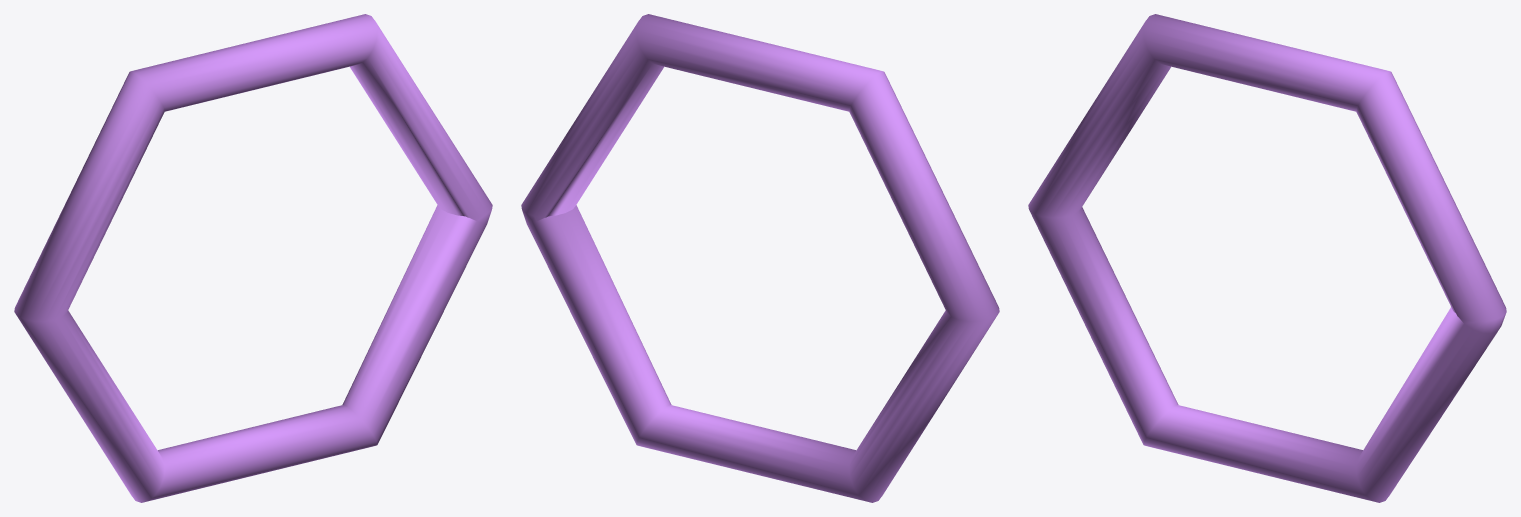
Rendered from hexagon-BB1gjEWf.glb.
3 views of the same model, side by side, from view 1: azimuth 30°, elevation 25°; view 2: azimuth 150°, elevation 25°; view 3: azimuth 330°, elevation 25° (orthographic).
Visible parts, largest first — view 1: R3D_hexagon_Body_0; view 2: R3D_hexagon_Body_0; view 3: R3D_hexagon_Body_0.
Part boxes in pixels (bbox=[...]): R3D_hexagon_Body_0: bbox=[14, 14, 492, 502]; R3D_hexagon_Body_0: bbox=[521, 14, 999, 502]; R3D_hexagon_Body_0: bbox=[1028, 14, 1506, 502].
Size of the model in its own units: 2.44 by 2.11 by 0.24.
